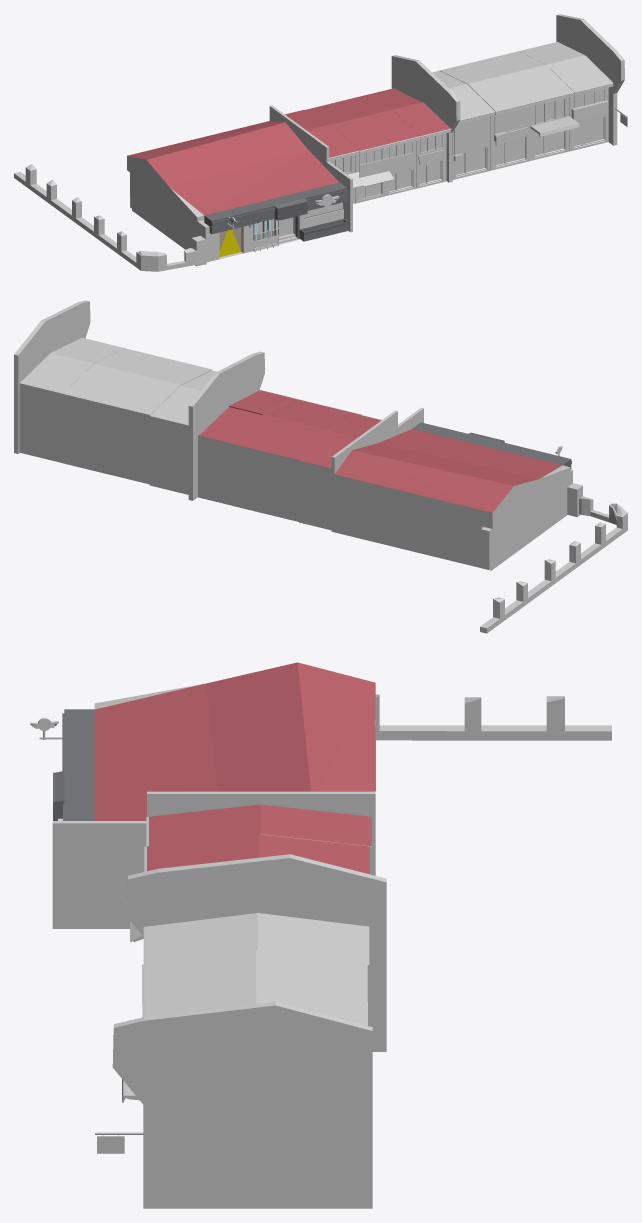
File: biggs-renz-teamA.fbx
The picture shows the model from 3 angles, top to bottom: view 1: azimuth 30°, elevation 25°; view 2: azimuth 150°, elevation 25°; view 3: azimuth 270°, elevation 25°; orthographic projection. The views are drawn at different scales.
Visible parts, largest first — view 1: polySurface3212, polySurface2609, polySurface2284, polySurface2585; view 2: polySurface2609, polySurface3212, polySurface2284, polySurface2585; view 3: polySurface2609, polySurface3212, polySurface2284, polySurface2585.
Boxes of the visible parts, <box> form: polySurface3212: <box>127,105,352,266</box>; polySurface2609: <box>391,14,627,182</box>; polySurface2284: <box>285,88,451,203</box>; polySurface2585: <box>14,164,196,271</box>; polySurface2609: <box>14,300,264,500</box>; polySurface3212: <box>331,407,582,571</box>; polySurface2284: <box>198,390,381,530</box>; polySurface2585: <box>480,496,627,633</box>; polySurface2609: <box>95,854,386,1208</box>; polySurface3212: <box>30,662,375,928</box>; polySurface2284: <box>130,804,371,942</box>; polySurface2585: <box>94,694,611,740</box>.
Size of the model in its own units: 2186 by 448 by 1133.
